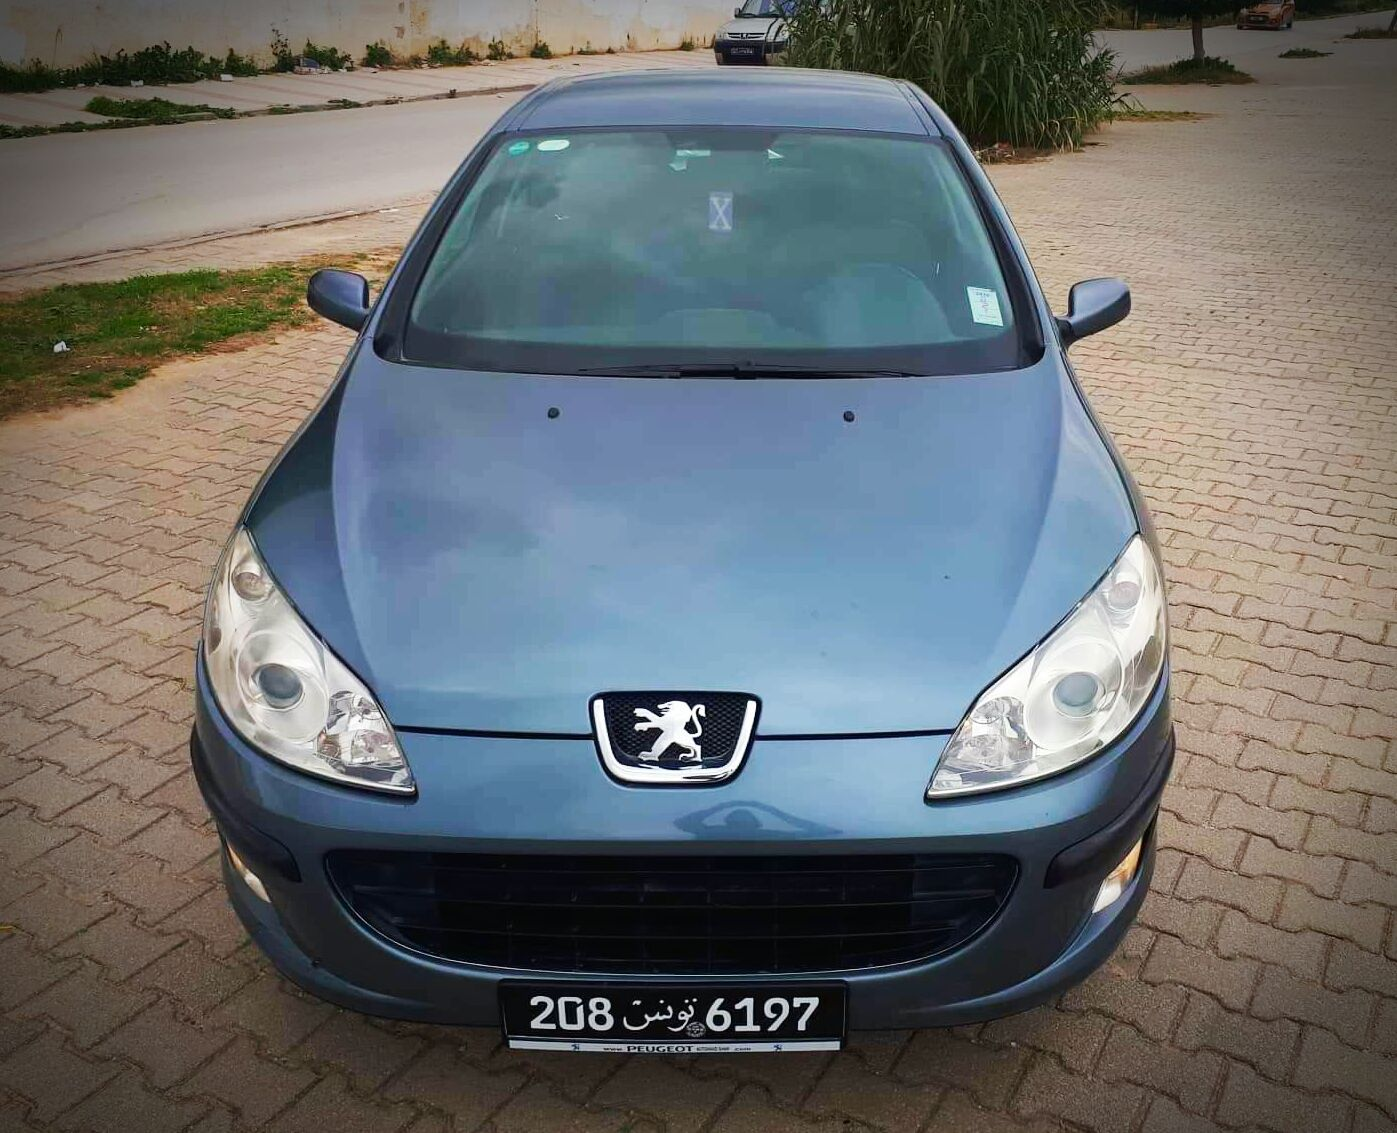LP: (497, 984, 843, 1036)
